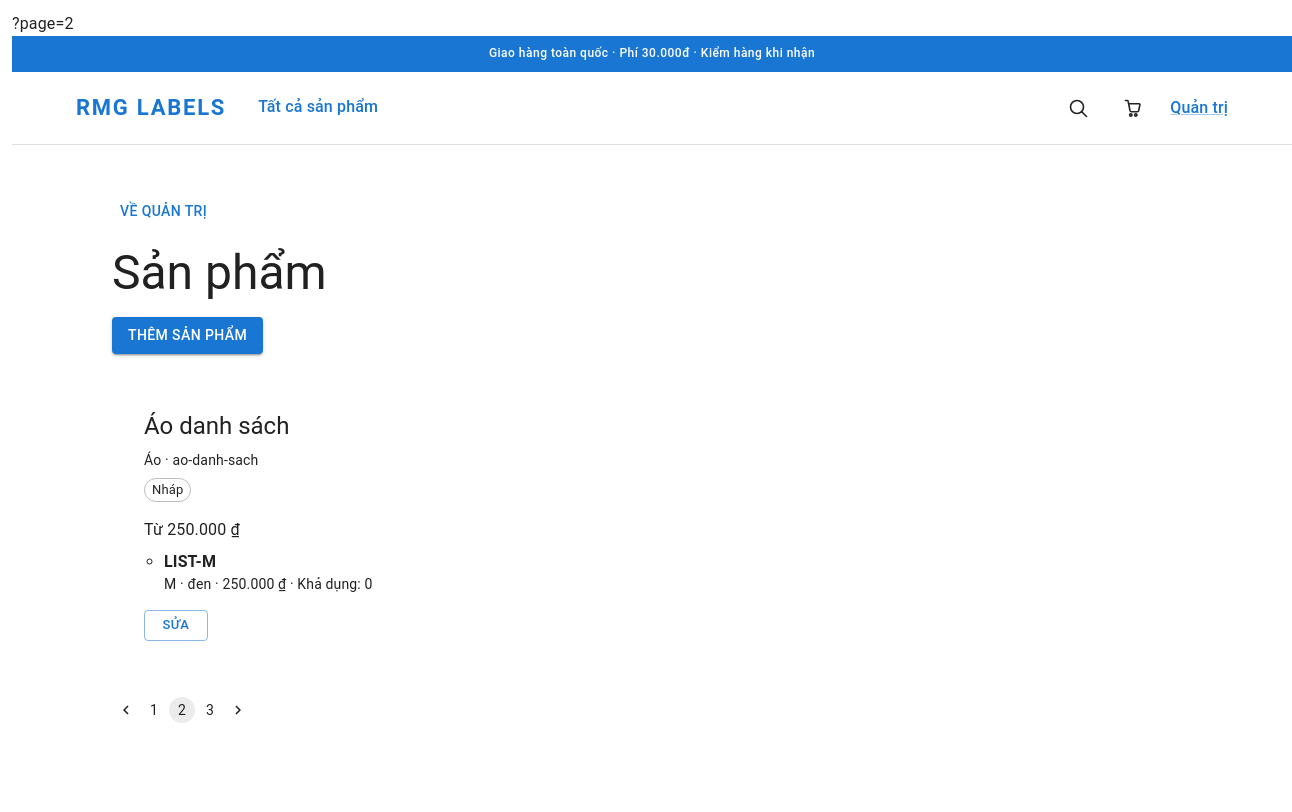
it: admin product list › reads pagination from the URL and preserves it when changing pages
This screenshot has width=1292, height=812.
Expected: the heading "Áo danh sách" is shown, left=144, top=412, right=289, bottom=440
Expected: the text "LIST-M" is shown, left=164, top=552, right=216, bottom=571
Step 1. Click the button named "Trang 3" → (210, 710), box left=197, top=697, right=223, bottom=723
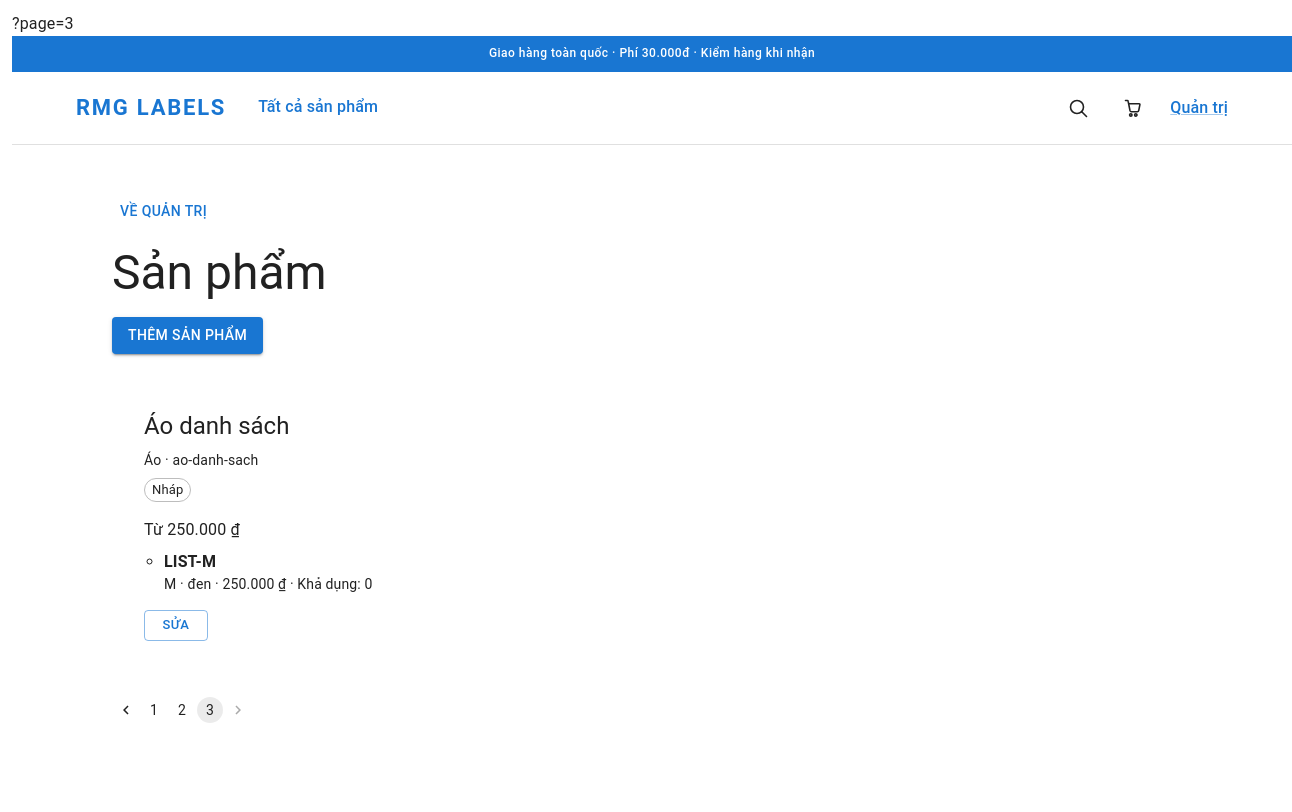
Expected: the text with test id "url" reads "?page=3", left=12, top=14, right=74, bottom=33
